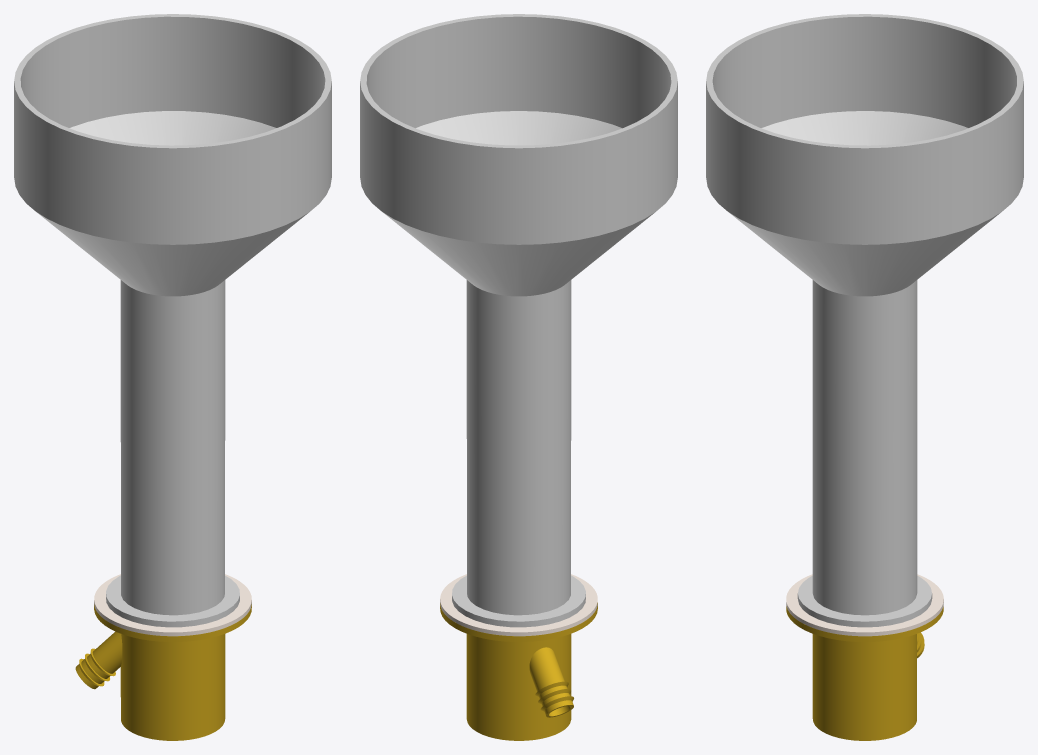
Rendered from fluidized.eb201025.glb.
3 renders of one model, left to right at view 1: azimuth 30°, elevation 25°; view 2: azimuth 150°, elevation 25°; view 3: azimuth 270°, elevation 25°, orthographic.
Parts seen in each view (by area): view 1: clear glass_clonedChild, polished brass, satin finish stainless steel; view 2: clear glass_clonedChild, polished brass, satin finish stainless steel; view 3: clear glass_clonedChild, polished brass, satin finish stainless steel.
Boxes of the visible parts, x1,y1,x2,y2 form: clear glass_clonedChild: (14, 14, 331, 627); polished brass: (75, 604, 251, 740); satin finish stainless steel: (94, 574, 251, 636); clear glass_clonedChild: (360, 14, 677, 627); polished brass: (440, 603, 597, 740); satin finish stainless steel: (440, 574, 597, 636); clear glass_clonedChild: (706, 14, 1023, 627); polished brass: (786, 606, 943, 740); satin finish stainless steel: (786, 574, 943, 636).
Bounding box in the file's own units: 0.149 × 0.33 × 0.149.
